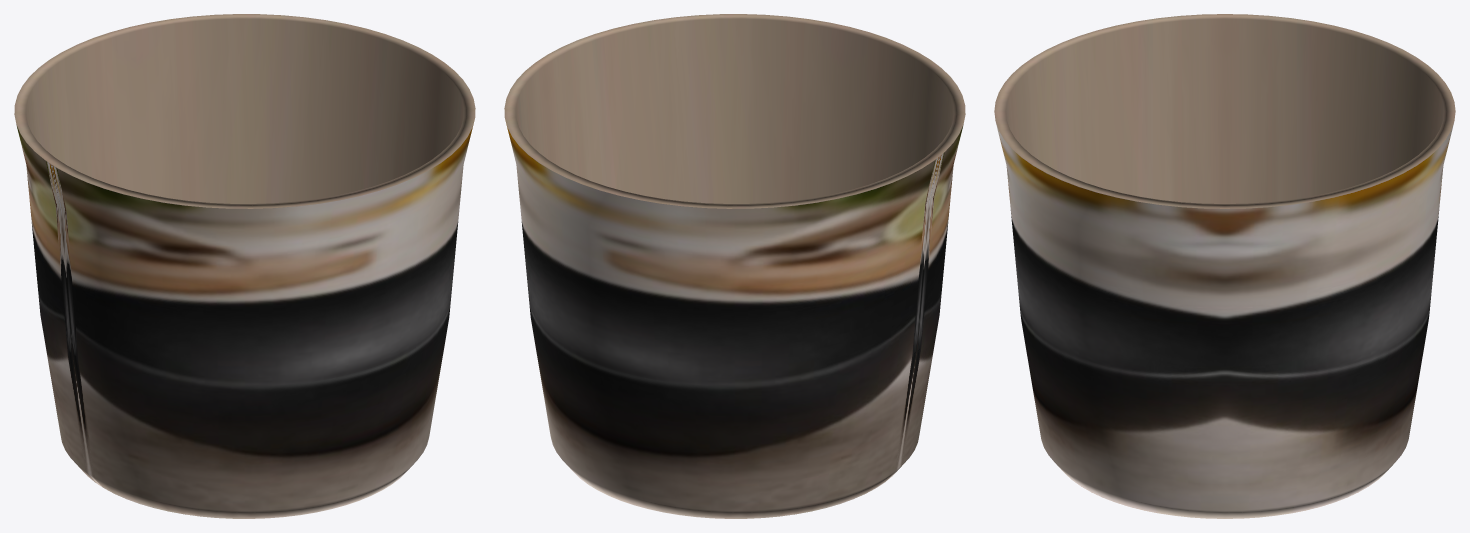
File: EST-05.glb
3 views of the same model, side by side, from view 1: azimuth 30°, elevation 25°; view 2: azimuth 150°, elevation 25°; view 3: azimuth 270°, elevation 25° (orthographic).
Size of the model in its own units: 0.15 by 0.12 by 0.15.
2 materials, 2 textured.
